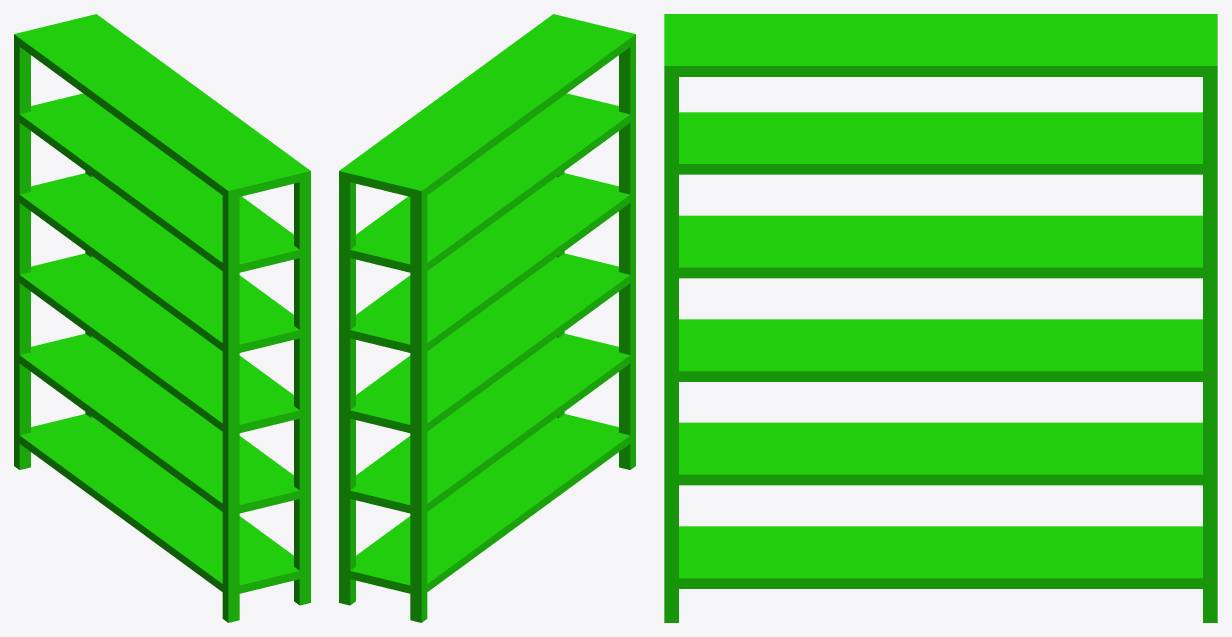
File: Shelf_02_B.fbx
3 renders of one model, left to right at view 1: azimuth 30°, elevation 25°; view 2: azimuth 150°, elevation 25°; view 3: azimuth 270°, elevation 25°, orthographic. The views are drawn at different scales.
Parts seen in each view (by area): view 1: Shelf_02_B; view 2: Shelf_02_B; view 3: Shelf_02_B.
Boxes of the visible parts, x1,y1,x2,y2 form: Shelf_02_B: (14, 14, 310, 622); Shelf_02_B: (339, 14, 635, 622); Shelf_02_B: (664, 14, 1217, 622).
Bounding box in the file's own units: 45.72 × 229 × 206.
